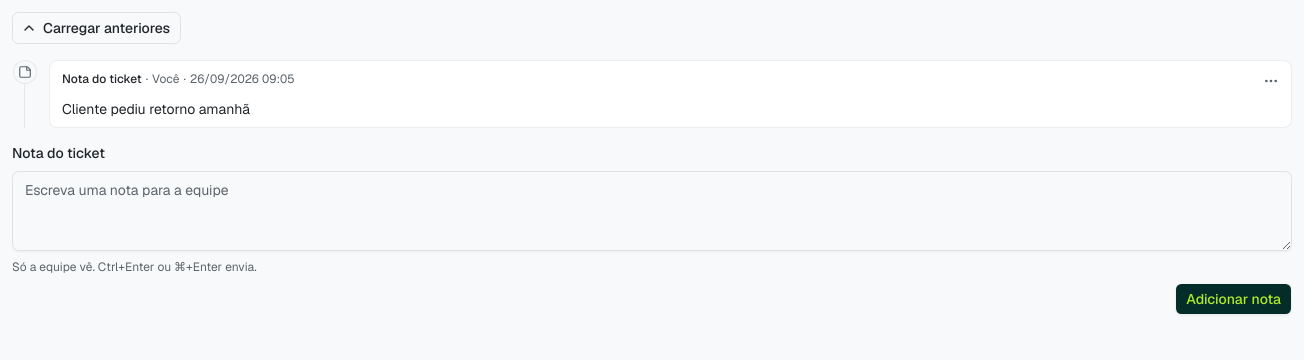
Test: TicketTimeline › falha ao carregar anteriores: aviso e Tentar de novo no mesmo lugar
Click the button "Carregar anteriores" at (97, 28), box [12,12,181,44]
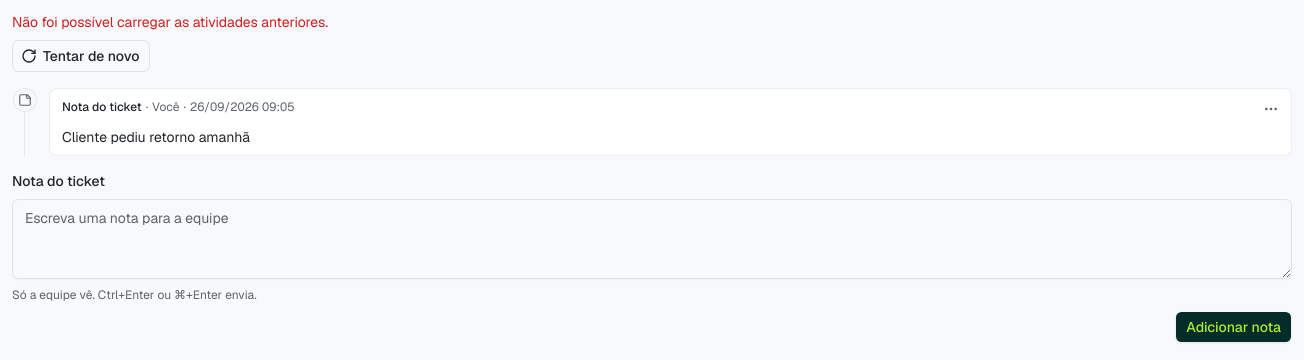
Expected: the number of list items is 1, [25,88,1292,156]
Expected: the text "Não foi possível carregar as atividades anteriores." is shown, [12,12,328,32]
Expected: the button "Tentar de novo" is shown, [12,40,150,72]
